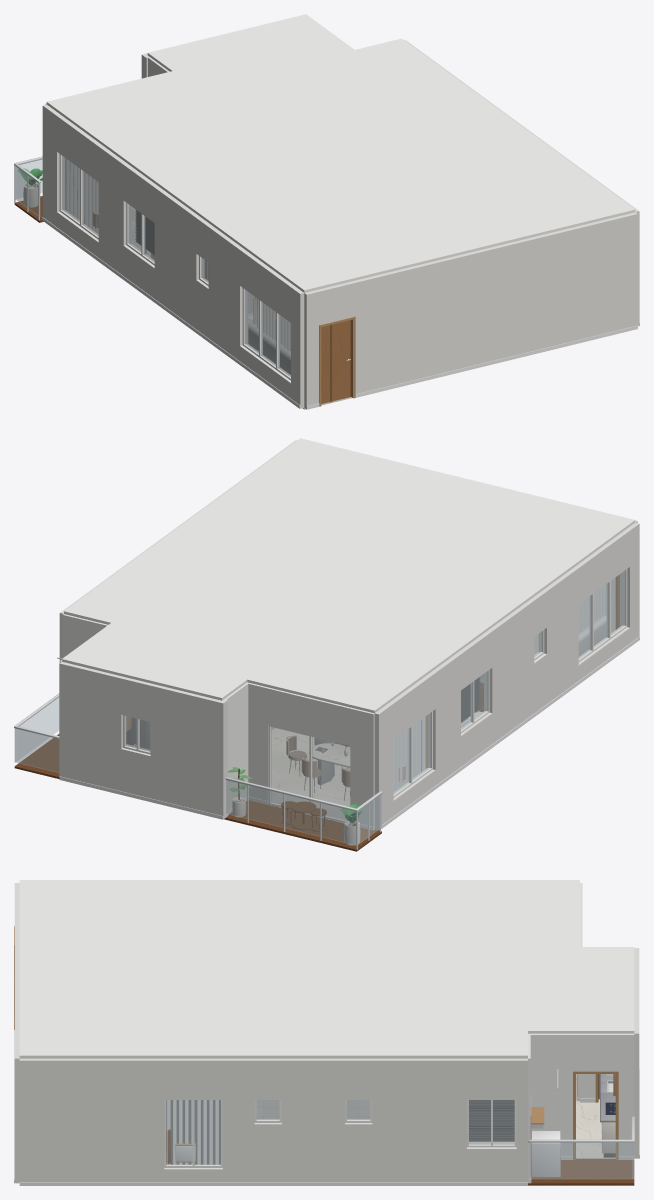
The model's file is west-facing-earth.glb.
3 renders of one model, top to bottom at view 1: azimuth 30°, elevation 25°; view 2: azimuth 150°, elevation 25°; view 3: azimuth 270°, elevation 25°, orthographic. The views are drawn at different scales.
Visible parts, largest first — view 1: Ceilings__Ceiling white, Structure__Exterior paint, Structure__Glass, Structure__Skirting white, Structure__Window frame white, Structure__Teak door leaf, Dining__Sheer white, Balcony__Glass, Living__Sofa fabric, Living__Sheer white, Structure__Door frame teak; view 2: Ceilings__Ceiling white, Structure__Exterior paint, Structure__Glass, Structure__Wall paint, Balcony__Glass, Structure__Window frame white, Floors__Wood deck, Floors__Marble floor, Structure__Skirting white, Dining__Sheer white, Balcony__Steel rail, Balcony_items (+4 smaller); view 3: Ceilings__Ceiling white, Structure__Exterior paint, Structure__Wall paint, Structure__Glass, Balcony__Glass, Master__Sheer white, Structure__Skirting white, Floors__Wood deck, Structure__Window frame white, Bed2__Blind black, Floors__Marble floor, Service__Washer white (+6 smaller).
Part boxes in pixels (box(x1,y1,x2,y2)): Ceilings__Ceiling white: box(46, 14, 635, 292); Structure__Exterior paint: box(42, 40, 639, 409); Structure__Glass: box(62, 156, 290, 376); Structure__Skirting white: box(42, 217, 639, 409); Structure__Window frame white: box(57, 154, 290, 382); Structure__Teak door leaf: box(321, 320, 350, 403); Dining__Sheer white: box(66, 159, 98, 233); Balcony__Glass: box(15, 159, 42, 216); Living__Sofa fabric: box(248, 312, 290, 374); Living__Sheer white: box(257, 299, 290, 352); Structure__Door frame teak: box(319, 316, 355, 406); Ceilings__Ceiling white: box(62, 438, 635, 713); Structure__Exterior paint: box(59, 440, 639, 830); Structure__Glass: box(125, 571, 625, 820); Structure__Wall paint: box(59, 614, 374, 829); Balcony__Glass: box(14, 697, 381, 845); Structure__Window frame white: box(121, 569, 629, 822); Floors__Wood deck: box(14, 734, 381, 851); Floors__Marble floor: box(271, 711, 481, 819); Structure__Skirting white: box(59, 636, 639, 830); Dining__Sheer white: box(393, 717, 425, 791); Balcony__Steel rail: box(14, 693, 382, 849); Balcony_items: box(228, 767, 361, 845); Ceilings__Ceiling white: box(19, 880, 634, 1058); Structure__Exterior paint: box(14, 883, 639, 1183); Structure__Wall paint: box(528, 883, 634, 1183); Structure__Glass: box(166, 1100, 514, 1165); Balcony__Glass: box(528, 1142, 634, 1179); Master__Sheer white: box(166, 1100, 220, 1164); Structure__Skirting white: box(14, 1030, 639, 1185); Floors__Wood deck: box(528, 1158, 634, 1185); Structure__Window frame white: box(164, 1099, 516, 1170); Bed2__Blind black: box(469, 1100, 514, 1141); Floors__Marble floor: box(576, 1074, 615, 1158); Service__Washer white: box(531, 1131, 560, 1177).
Bounding box in the file's own units: 9.55 × 3.17 × 13.86.
Materials: 158 (37 with a texture image).
